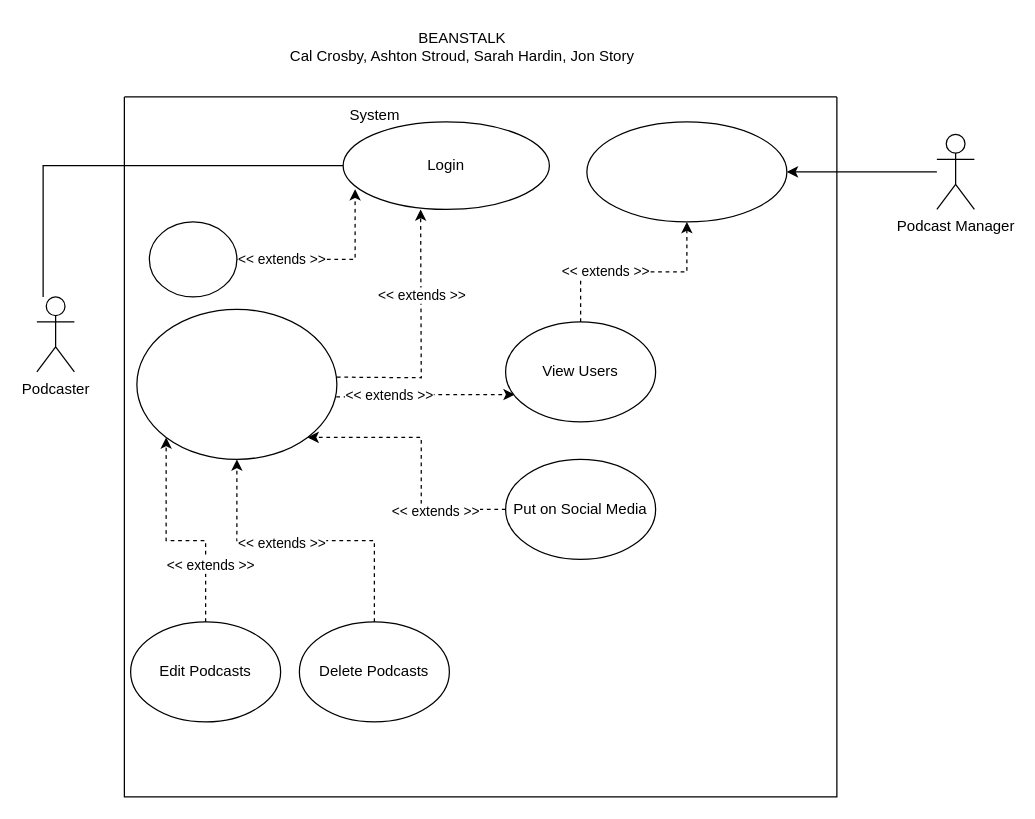
Some shapes in this 1035 by 819 pixel diagram are drawn without their labels. Here are the shapes that lost their labels. From the top down, the centre of each, then its label:
(686,171): Login Admin
(192,259): Store New Podcasts
(236,383): View Podcasts
